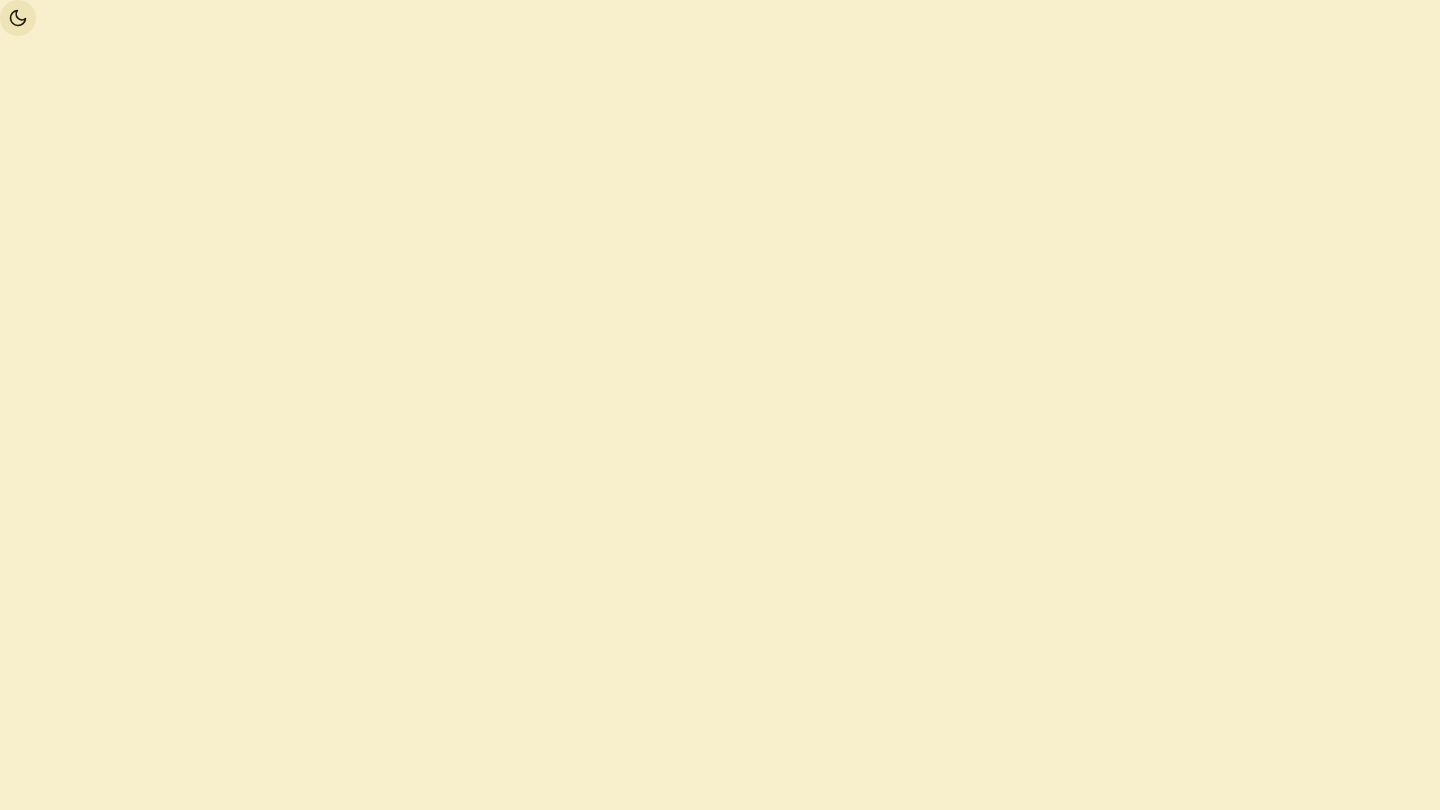
Test: ThemeSwitch (R68) › switches the page at once and remembers the choice
Click the button at (18, 18), box [0, 0, 36, 36]
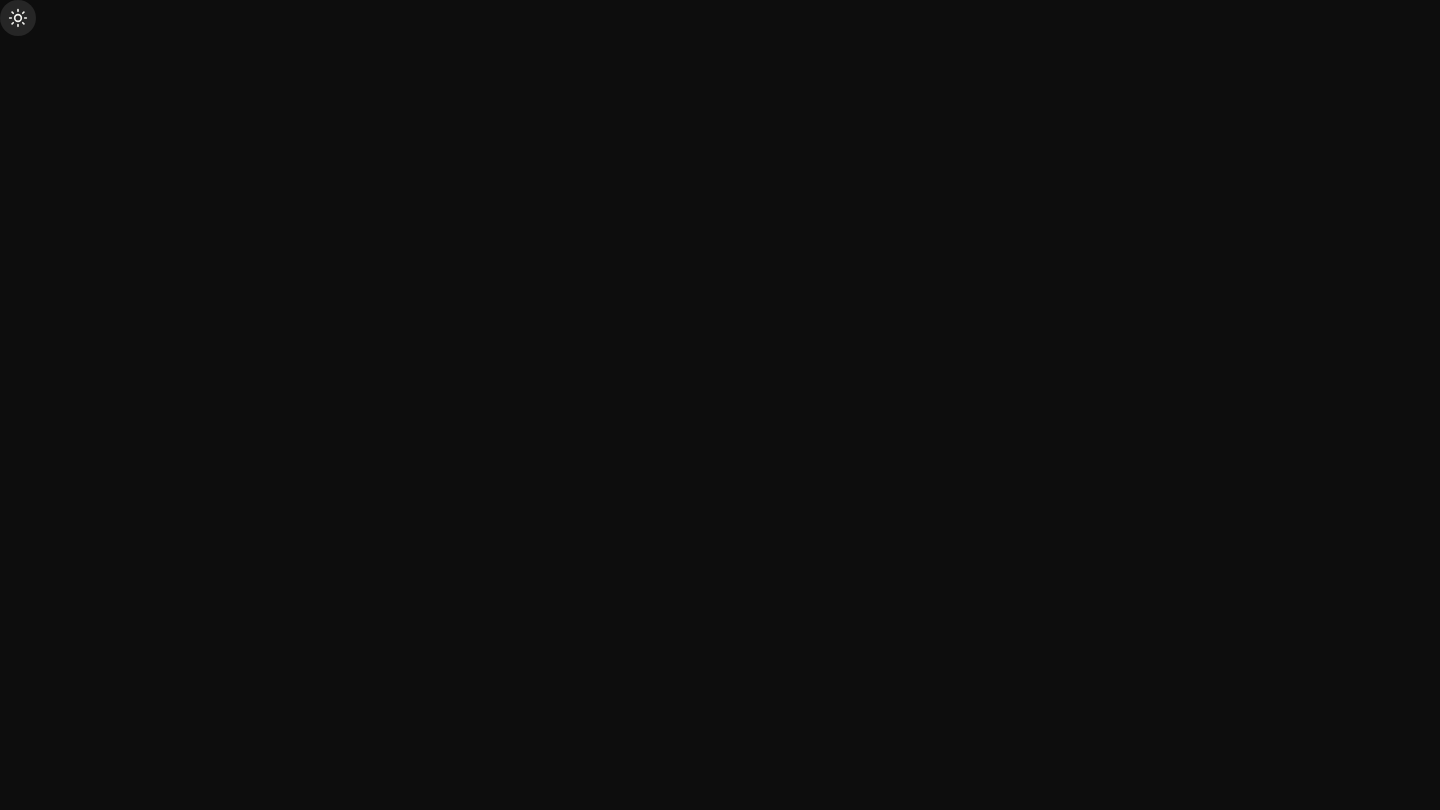
Expected: the button has attribute aria-label="Switch to light mode"
Click the button at (18, 18), box [0, 0, 36, 36]
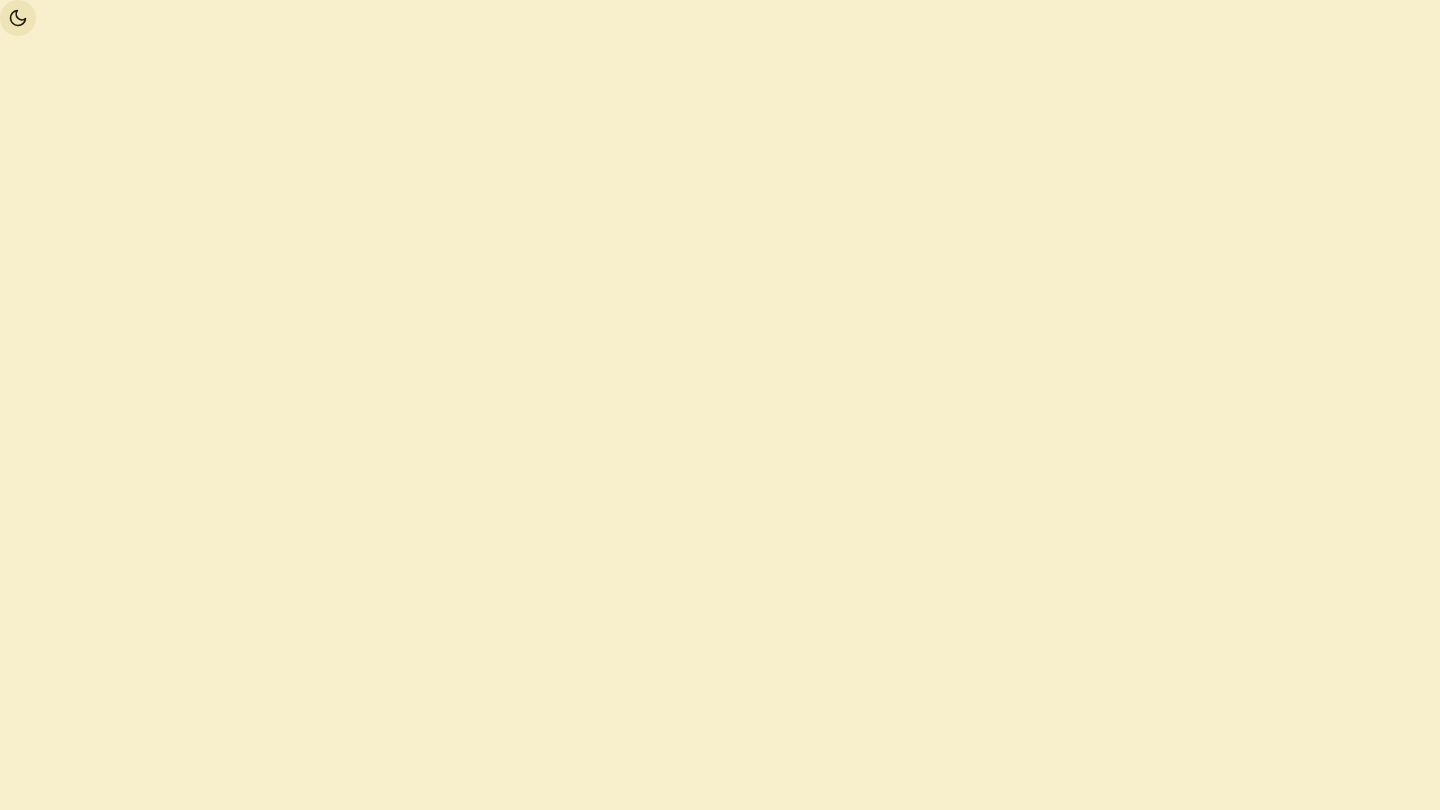
Expected: the button has attribute aria-label="Switch to dark mode", [0, 0, 36, 36]
